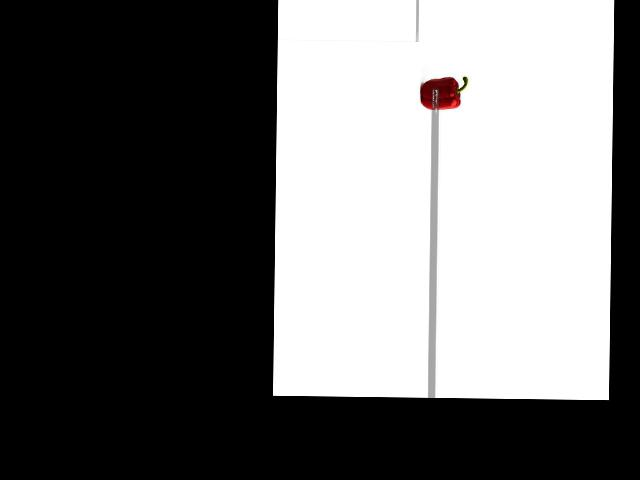bell_pepper: (421, 71, 470, 112)
